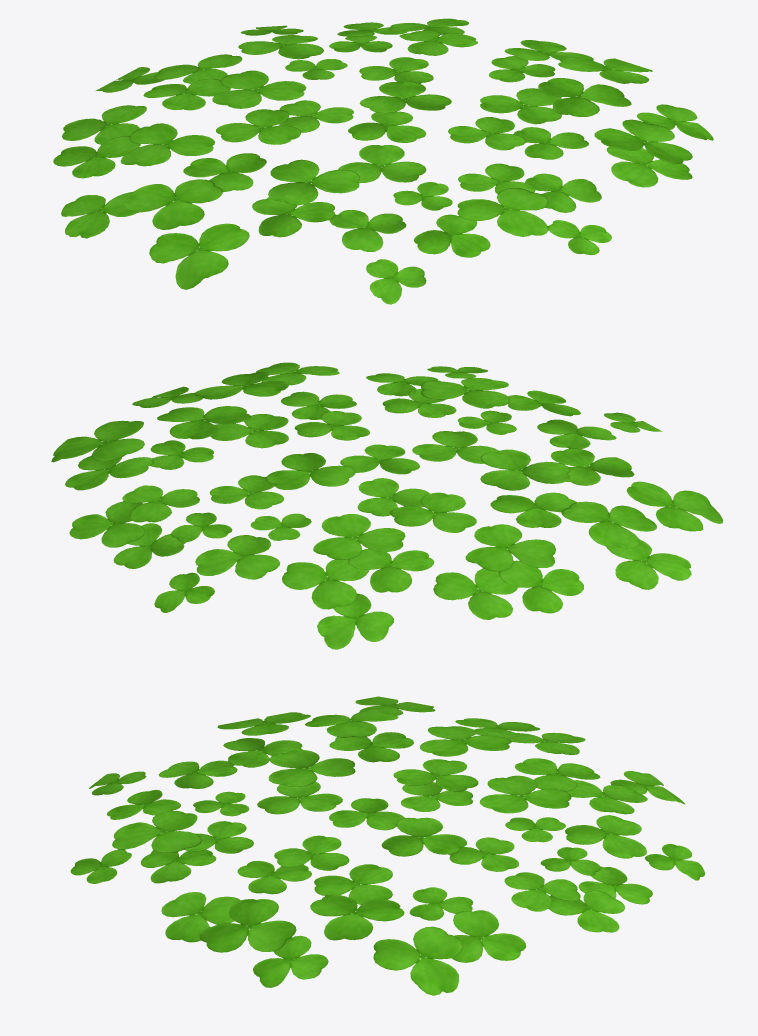
Rendered from CloverPatch3.fbx.
3 views of the same model, one above another, from view 1: azimuth 30°, elevation 25°; view 2: azimuth 150°, elevation 25°; view 3: azimuth 270°, elevation 25° (orthographic).
Parts seen in each view (by area): view 1: Mesh; view 2: Mesh; view 3: Mesh.
Boxes of the visible parts, x1=… form: Mesh: x1=53, y1=18, x2=713, y2=304; Mesh: x1=51, y1=362, x2=723, y2=649; Mesh: x1=70, y1=696, x2=705, y2=995.
Size of the model in its own units: 250 by 18.41 by 242.
